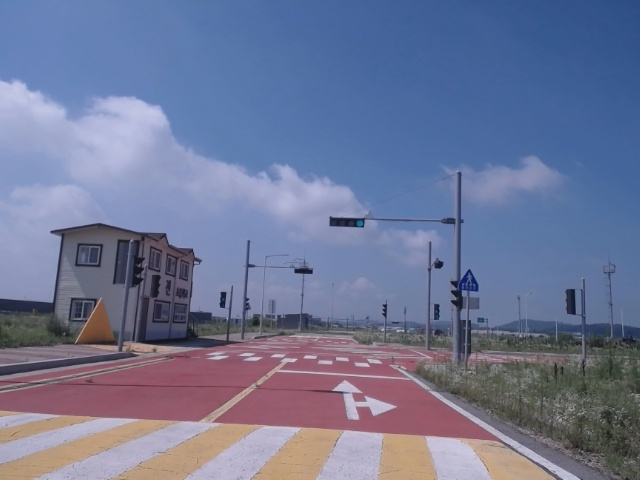straight_green_4: (330, 219, 364, 227)
